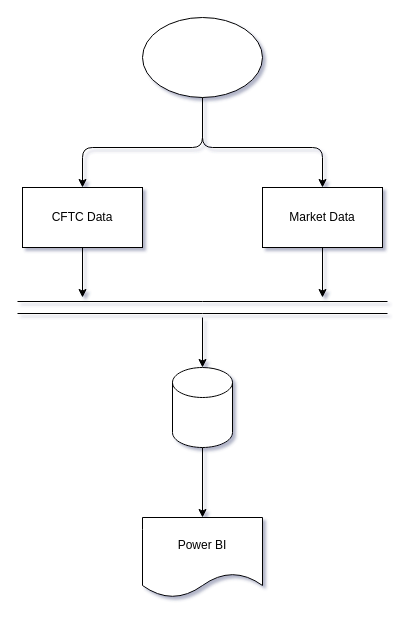
This 411x621 diagram has some shape labels left out. The box of each missing label's shape, as (x1, y1, x2, y2) in pixels:
Db: (172, 366, 232, 448)
Start: (142, 16, 262, 98)
